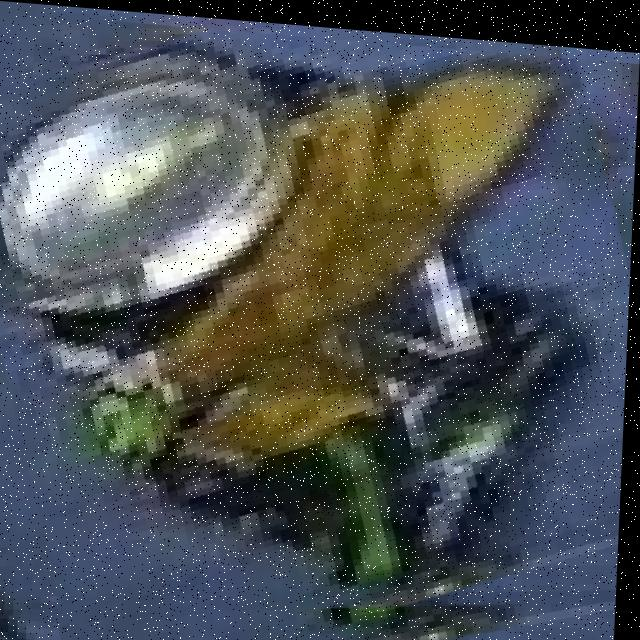can: (0, 26, 626, 609)
